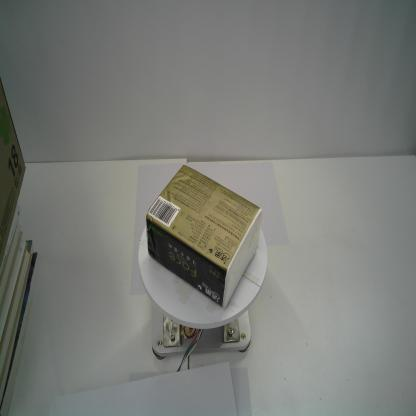Tissue: (144, 163, 262, 309)
